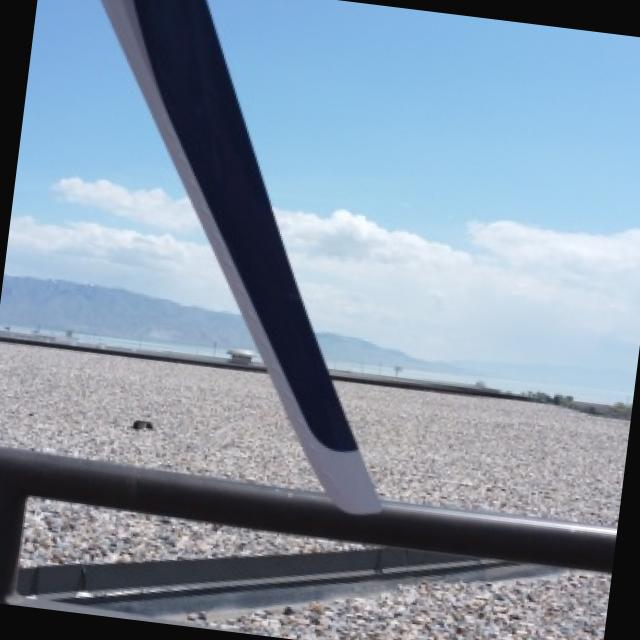healthy: (107, 0, 378, 511), (6, 0, 213, 300)
